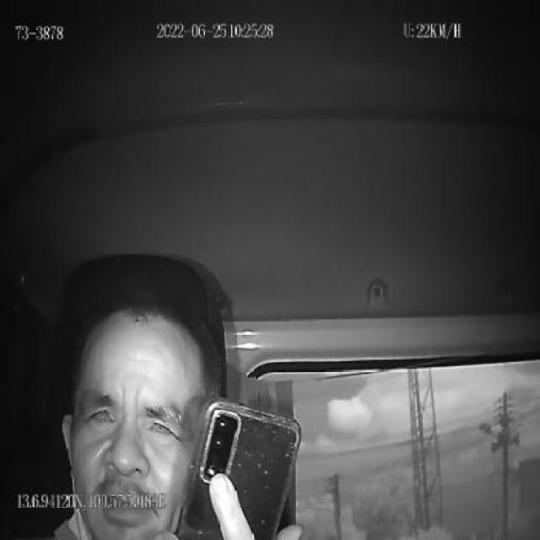phone: (178, 398, 302, 540)
